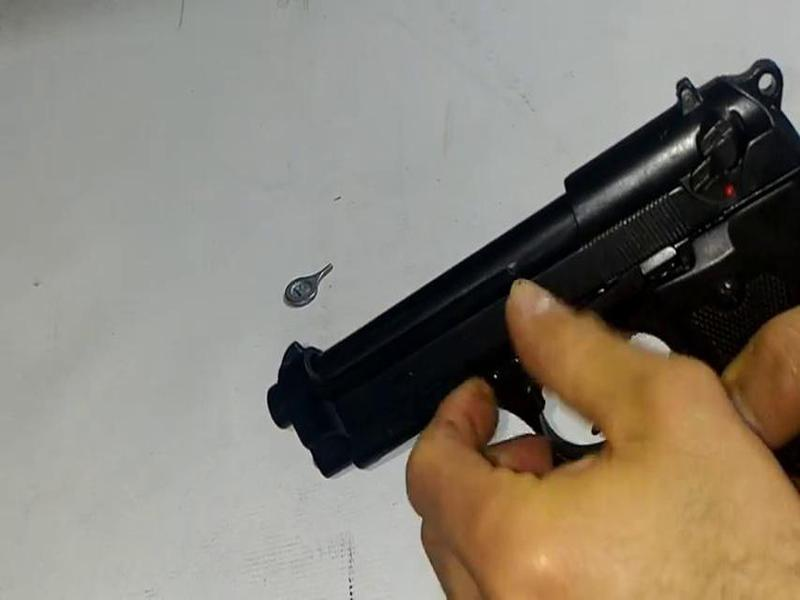Pistola: (253, 43, 800, 501)
